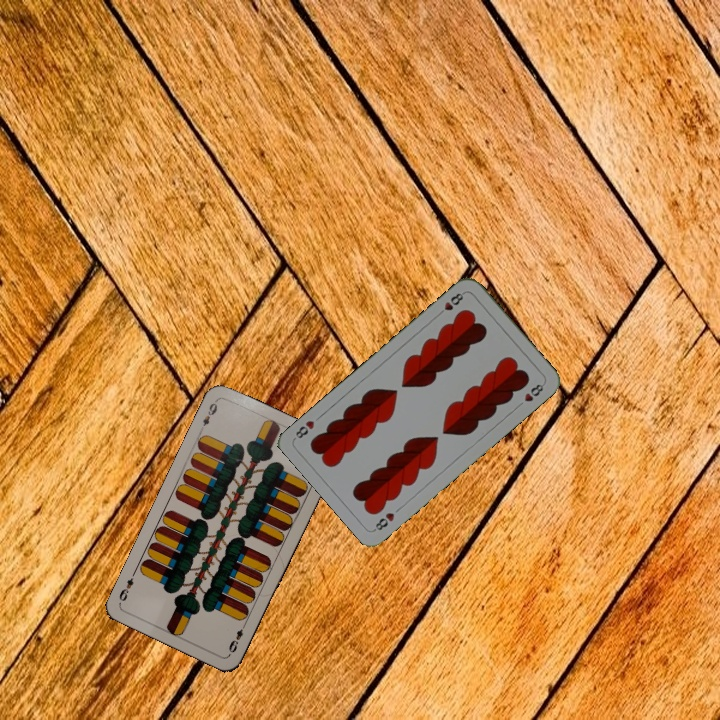E9: (196, 397, 220, 434), (225, 619, 248, 656)
H8: (434, 288, 467, 319), (370, 509, 397, 533)
